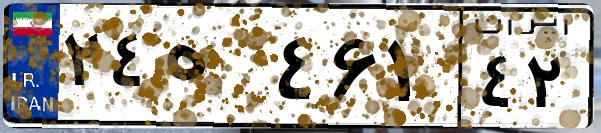1: (385, 28, 445, 110)
2: (57, 26, 110, 100), (525, 38, 570, 115)
4: (270, 28, 330, 110), (475, 38, 525, 113), (110, 28, 158, 98)
6: (330, 28, 385, 110)
ه: (158, 20, 270, 120)
